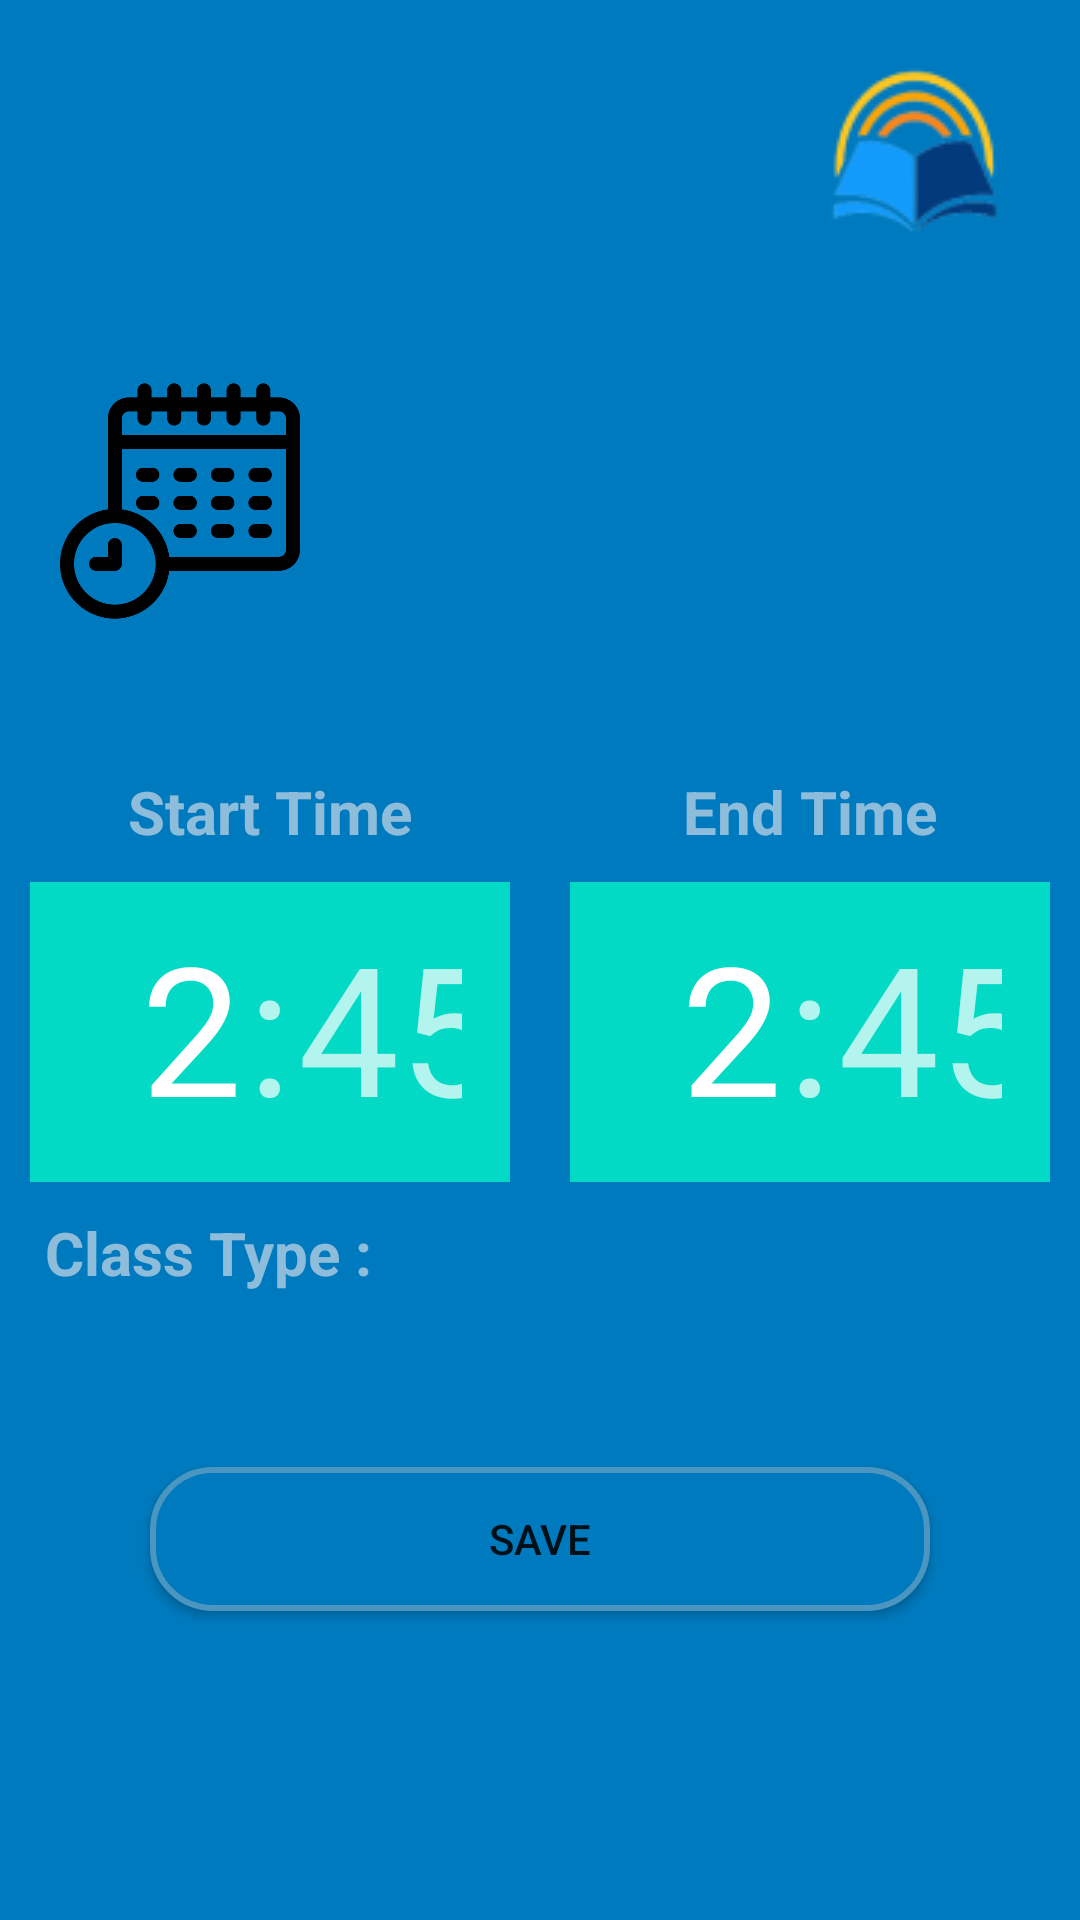

Screen size 1080px×1920px. Icon name, then its box in pixels as (x1, y1, x2, y2):
timetable: (60, 383, 300, 619)
